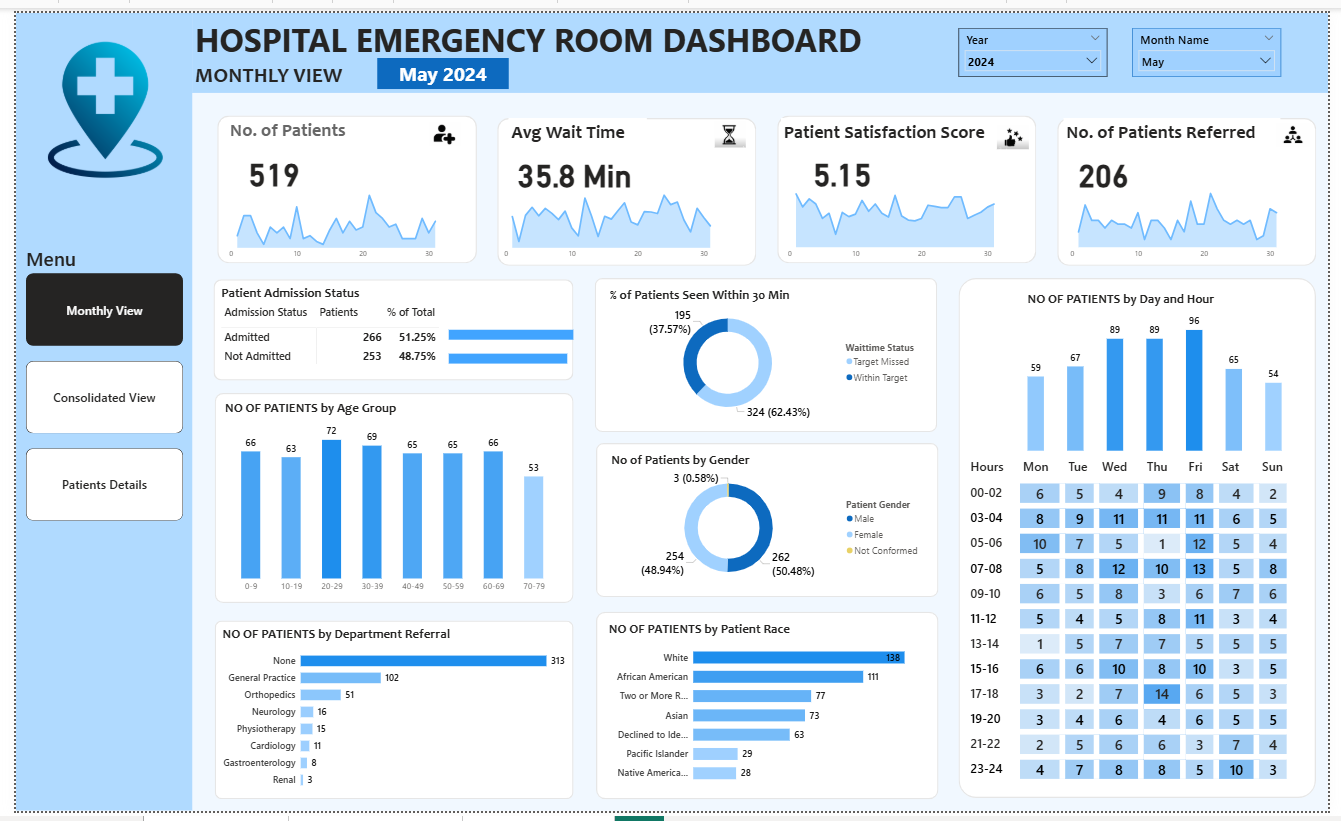

This screenshot's page, from the dashboard's own definition file:
{"tool":"powerbi","page":{"name":"Monthly View ","canvas":[2300,1399],"ordinal":0},"visuals":[{"type":"shape","box":[0,0,308.8,1397.3],"z":0},{"type":"shape","box":[308.8,0,1990.8,140.2],"z":1000},{"type":"textbox","box":[308.8,2.2,1217.7,100.7],"z":2000},{"type":"shape","box":[351.7,180.6,455,259],"z":3000},{"type":"textbox","box":[308.9,80.8,282.7,59.4],"z":4000},{"type":"card","fields":{"Values":["Hospital ER_Data (1).NO OF PATIENTS"]},"box":[394.4,240,114,71.3],"z":5000},{"type":"slicer","fields":{"Values":["DateTime.Month Name"]},"box":[1955.7,26.3,260.6,85.4],"z":6000},{"type":"slicer","fields":{"Values":["DateTime.Year"]},"box":[1651.3,26.3,260.6,85.4],"z":7000},{"type":"textbox","box":[370.7,180.6,221,59.4],"z":8000},{"type":"areaChart","fields":{"Category":["DateTime.Date.Variation.Date Hierarchy.Day"],"Y":["Hospital ER_Data (1).NO OF PATIENTS"]},"box":[361.2,294.6,434.8,144.9],"z":9000},{"type":"card","fields":{"Values":["Min(DateTime.Month & Year)"]},"box":[632,78.4,230.5,54.6],"z":10000},{"type":"shape","box":[843.5,183,453.8,259],"z":11000},{"type":"shape","box":[1334.1,180.6,453.8,259],"z":12000},{"type":"shape","box":[1824.8,183,453.8,259],"z":13000},{"type":"areaChart","fields":{"Category":["DateTime.Date.Variation.Date Hierarchy.Day"],"Y":["Hospital ER_Data (1).No Of Patient Referred"]},"box":[1834.3,294.6,434.8,144.9],"z":14000},{"type":"areaChart","fields":{"Category":["DateTime.Date.Variation.Date Hierarchy.Day"],"Y":["Hospital ER_Data (1).satisfaction score"]},"box":[1340.1,294.6,434.8,144.9],"z":15000},{"type":"areaChart","fields":{"Category":["DateTime.Date.Variation.Date Hierarchy.Day"],"Y":["Avg(Hospital ER_Data (1).Patient Waittime)"]},"box":[843.5,294.6,434.8,144.9],"z":16000},{"type":"textbox","box":[862.5,183,242.4,59.4],"z":17000},{"type":"card","fields":{"Values":["Hospital ER_Data (1).Avg Time"]},"box":[869.6,242.4,218.6,71.3],"z":18000},{"type":"textbox","box":[1340.1,183,380.2,59.4],"z":19000},{"type":"shape","box":[346,466.5,630.7,177.4],"z":20000},{"type":"card","fields":{"Values":["Hospital ER_Data (1).satisfaction score"]},"box":[1368.6,240,156.8,71.3],"z":21000},{"type":"textbox","box":[1834.3,183,380.2,59.4],"z":22000},{"type":"card","fields":{"Values":["Hospital ER_Data (1).No Of Patient Referred"]},"box":[1848.6,242.4,114,71.3],"z":23000},{"type":"pivotTable","title":"Patient Admission Status","fields":{"Rows":["Hospital ER_Data (1).Admission Status"],"Values":["Hospital ER_Data (1).NO OF PATIENTS1","Hospital ER_Data (1).NO OF PATIENTS"]},"box":[354.8,475.2,624.2,162.1],"z":24000},{"type":"barChart","fields":{"Category":["Hospital ER_Data (1).Admission Status"],"Y":["Hospital ER_Data (1).NO OF PATIENTS"]},"box":[753.4,521.2,256.2,122.6],"z":25000},{"type":"shape","box":[348.2,665.8,628.5,367.9],"z":26000},{"type":"clusteredColumnChart","fields":{"Category":["Hospital ER_Data (1).Age Group"],"Y":["Hospital ER_Data (1).NO OF PATIENTS"]},"box":[361.4,676.7,597.9,348.2],"z":27000},{"type":"shape","box":[348.2,1064.4,628.5,313.2],"z":28000},{"type":"clusteredBarChart","fields":{"Category":["Hospital ER_Data (1).Department Referral"],"Y":["Hospital ER_Data (1).NO OF PATIENTS"]},"box":[357,1073.1,611,297.8],"z":29000},{"type":"shape","box":[1014.4,465.2,600,270],"z":30000},{"type":"donutChart","title":"% of Patients Seen Within 30 Min","fields":{"Category":["Hospital ER_Data (1).Waittime Status"],"Y":["Hospital ER_Data (1).NO OF PATIENTS"]},"box":[1036.3,480.5,556.3,238.7],"z":31000},{"type":"shape","box":[1015.7,753.7,600,270],"z":32000},{"type":"donutChart","title":"No of Patients by Gender ","fields":{"Y":["Hospital ER_Data (1).NO OF PATIENTS"],"Category":["Hospital ER_Data (1).Patient Gender"]},"box":[1037.6,769.1,556.3,238.7],"z":33000},{"type":"shape","box":[1016.2,1049,600.1,328.5],"z":34000},{"type":"clusteredBarChart","fields":{"Y":["Hospital ER_Data (1).NO OF PATIENTS"],"Category":["Hospital ER_Data (1).Patient Race"]},"box":[1033.7,1064.4,558.5,297.8],"z":35000},{"type":"shape","box":[1651.3,464.3,626.4,911.1],"z":36000},{"type":"pivotTable","fields":{"Rows":["Hospital ER_Data (1).Waittime Interval"],"Columns":["DateTime.Day Name"],"Values":["Hospital ER_Data (1).NO OF PATIENTS"]},"box":[1662.3,773.1,604.5,584.7],"z":37000},{"type":"columnChart","title":"NO OF PATIENTS by Day and Hour","fields":{"Category":["DateTime.Day Name"],"Y":["Hospital ER_Data (1).NO OF PATIENTS"]},"box":[1767.4,486.2,457.7,286.9],"z":38000},{"type":"image","box":[37.2,46,238.7,247.5],"z":39000},{"type":"image","box":[724.9,157.7,54.8,109.5],"z":40000},{"type":"image","box":[1224.2,170.8,54.8,83.2],"z":41000},{"type":"image","box":[1717,197.1,59.1,41.6],"z":42000},{"type":"image","box":[2207.6,173,59.1,78.8],"z":43000},{"type":"pageNavigator","title":"Menu","box":[16.6,406.3,275.6,482.3],"z":44000}]}

Visuals, with their boxes in screenshot pixels (x1, y1, x2, y2), scaled from the page's 2300x1399 canvas onto the 1341x821 screenshot:
shape: 0/0/180/820
shape: 180/0/1340/82
textbox: 180/1/890/60
shape: 205/106/470/258
textbox: 180/47/345/82
card - Hospital ER_Data (1).NO OF PATIENTS: 230/141/296/183
slicer - DateTime.Month Name: 1140/15/1292/66
slicer - DateTime.Year: 963/15/1115/66
textbox: 216/106/345/141
areaChart - DateTime.Date.Variation.Date Hierarchy.Day x Hospital ER_Data (1).NO OF PATIENTS: 211/173/464/258
card - Min(DateTime.Month & Year): 368/46/503/78
shape: 492/107/756/259
shape: 778/106/1042/258
shape: 1064/107/1329/259
areaChart - DateTime.Date.Variation.Date Hierarchy.Day x Hospital ER_Data (1).No Of Patient Referred: 1069/173/1323/258
areaChart - DateTime.Date.Variation.Date Hierarchy.Day x Hospital ER_Data (1).satisfaction score: 781/173/1035/258
areaChart - DateTime.Date.Variation.Date Hierarchy.Day x Avg(Hospital ER_Data (1).Patient Waittime): 492/173/745/258
textbox: 503/107/644/142
card - Hospital ER_Data (1).Avg Time: 507/142/634/184
textbox: 781/107/1003/142
shape: 202/274/569/378
card - Hospital ER_Data (1).satisfaction score: 798/141/889/183
textbox: 1069/107/1291/142
card - Hospital ER_Data (1).No Of Patient Referred: 1078/142/1144/184
"Patient Admission Status" pivotTable: 207/279/571/374
barChart - Hospital ER_Data (1).Admission Status x Hospital ER_Data (1).NO OF PATIENTS: 439/306/589/378
shape: 203/391/569/607
clusteredColumnChart - Hospital ER_Data (1).Age Group x Hospital ER_Data (1).NO OF PATIENTS: 211/397/559/601
shape: 203/625/569/808
clusteredBarChart - Hospital ER_Data (1).Department Referral x Hospital ER_Data (1).NO OF PATIENTS: 208/630/564/805
shape: 591/273/941/431
"% of Patients Seen Within 30 Min" donutChart: 604/282/929/422
shape: 592/442/942/601
"No of Patients by Gender " donutChart: 605/451/929/591
shape: 592/616/942/808
clusteredBarChart - Hospital ER_Data (1).NO OF PATIENTS x Hospital ER_Data (1).Patient Race: 603/625/928/799
shape: 963/272/1328/807
pivotTable - Hospital ER_Data (1).Waittime Interval x DateTime.Day Name: 969/454/1322/797
"NO OF PATIENTS by Day and Hour" columnChart: 1030/285/1297/454
image: 22/27/161/172
image: 423/93/455/157
image: 714/100/746/149
image: 1001/116/1036/140
image: 1287/102/1322/148
"Menu" pageNavigator: 10/238/170/521
